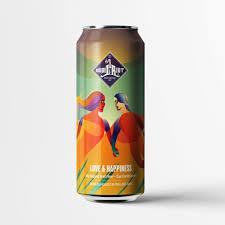beer: (74, 23, 147, 202)
